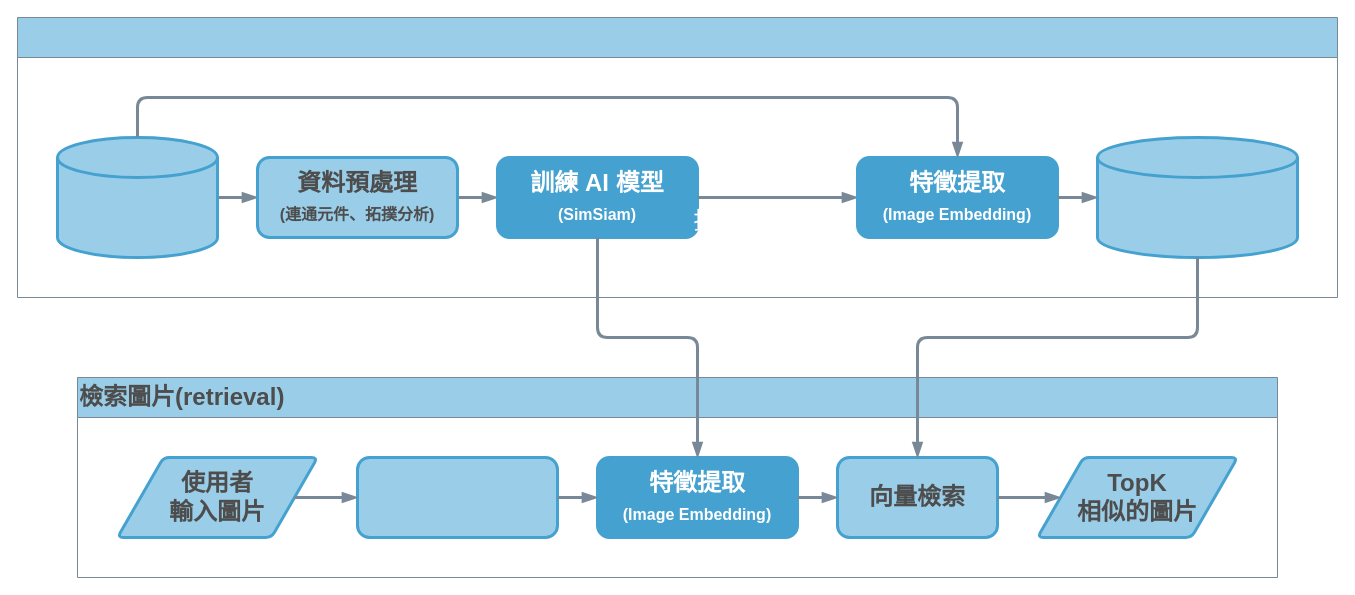
Image size: 1355x595. Some labels were removed from this diagram. Here are the shapes that lost their labels. From the top down, the box of each, then its label:
(16, 16, 1338, 298): AI 模型學習與建立資料庫(Training&Create DB)
(56, 136, 218, 258): 歷史圖庫
(1096, 136, 1298, 258): 檢索用資料庫 (向量資料庫 ChromaDB)
(356, 456, 558, 538): 資料預處理 ( 連通元件、拓撲分析 )
